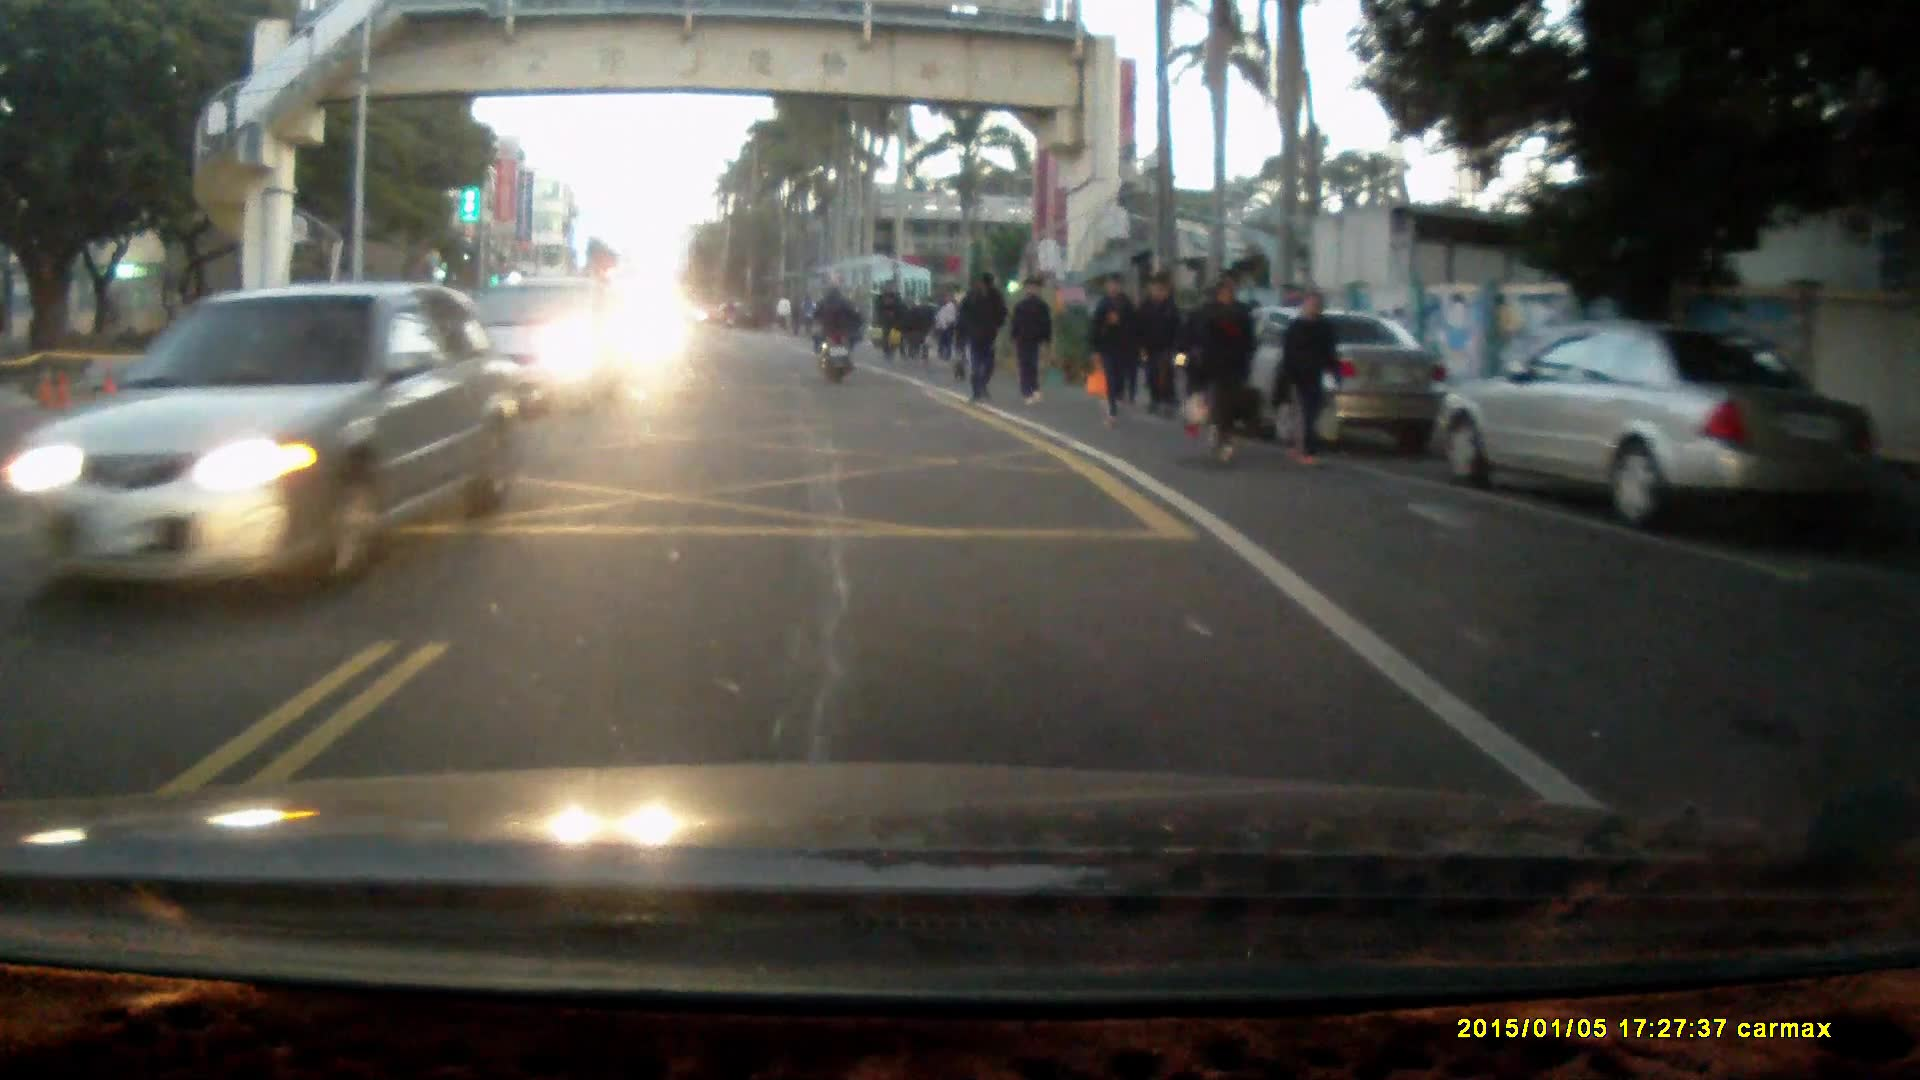pedestrian: (1274, 285, 1346, 468), (1197, 277, 1259, 464), (1086, 270, 1138, 427), (959, 274, 1011, 405), (1147, 267, 1191, 416), (1007, 273, 1055, 406), (870, 280, 900, 365), (931, 288, 959, 367), (895, 285, 925, 359)
rider: (811, 281, 859, 384)
vehicle: (30, 280, 519, 606), (1433, 319, 1875, 530), (1183, 307, 1454, 443), (432, 276, 623, 422)
